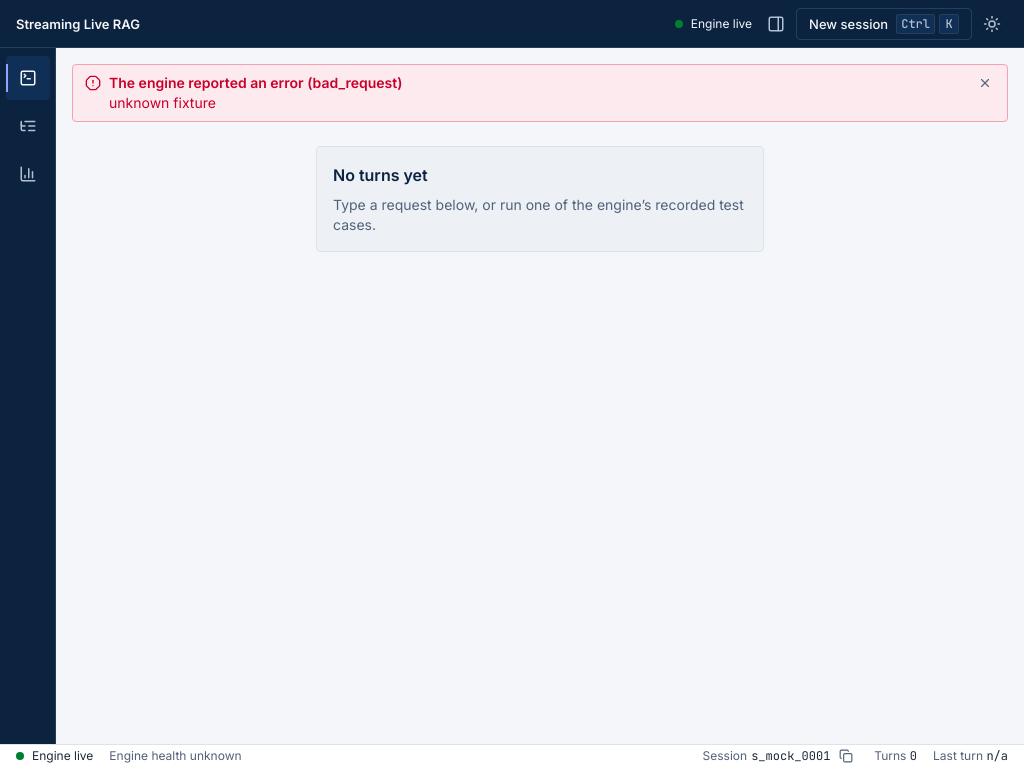
AppFrame: the connection › shows an engine error in the flow of the view, with a way to dismiss it
The width and height of the screenshot is (1024, 768).
expect the message "The engine reported an error (bad_request) unknown fixture" is shown: met, box [72,64,1008,122]
Click the button named "Dismiss" at coordinates (985, 83), box [971,69,999,97]
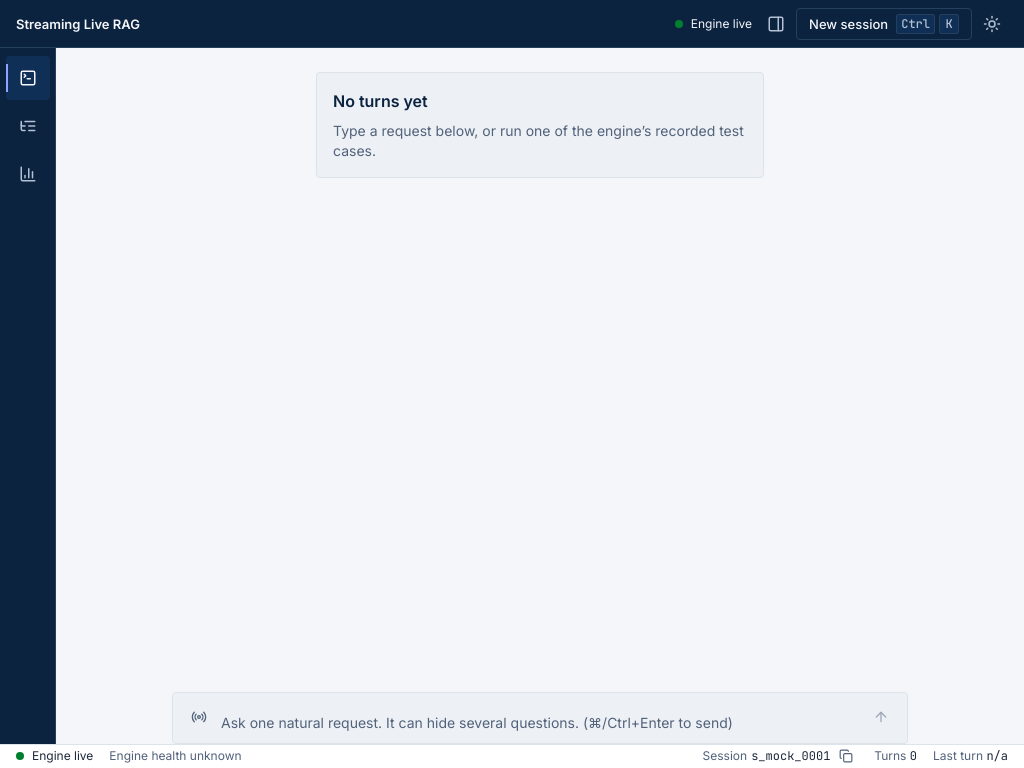
expect the message "The engine reported an error (bad_request) unknown fixture" is gone: met
